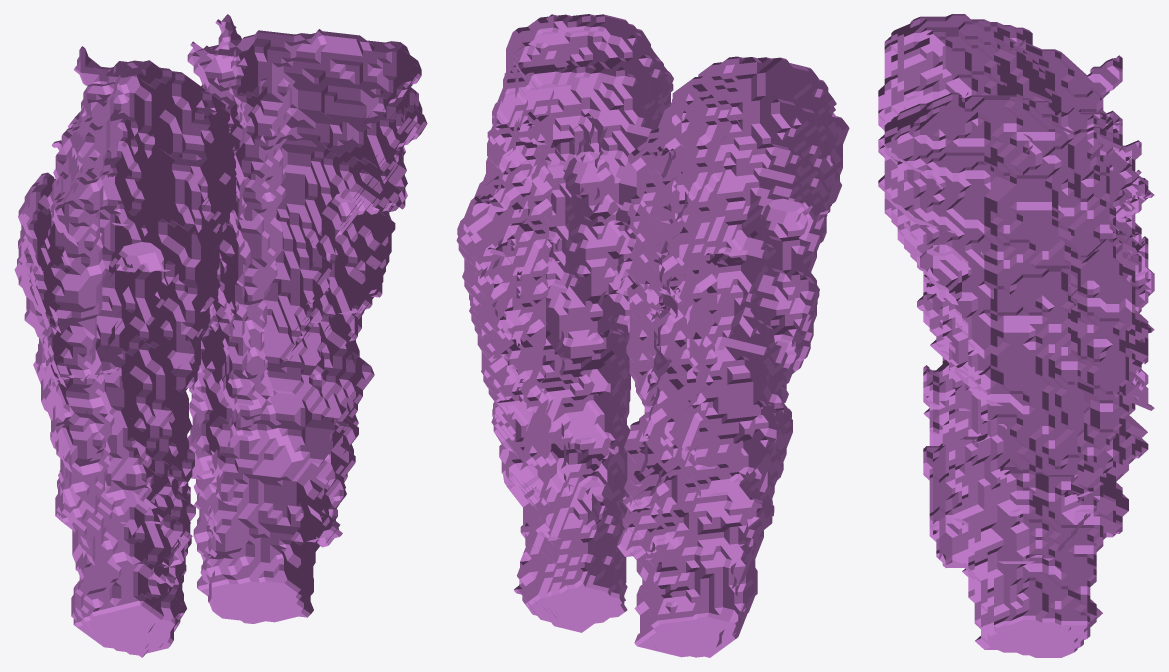
The model's file is region_0074_IRF__inferior_reticular_formation_.glb.
The picture shows the model from 3 angles, left to right: view 1: azimuth 30°, elevation 25°; view 2: azimuth 150°, elevation 25°; view 3: azimuth 270°, elevation 25°; orthographic projection. The views are drawn at different scales.
Visible parts, largest first — view 1: world; view 2: world; view 3: world.
Part boxes in pixels (x1,y1,x2,y2): world: (14, 14, 427, 657); world: (456, 14, 849, 657); world: (878, 14, 1154, 657).
Bounding box in the file's own units: 0.488 × 0.728 × 0.344.
